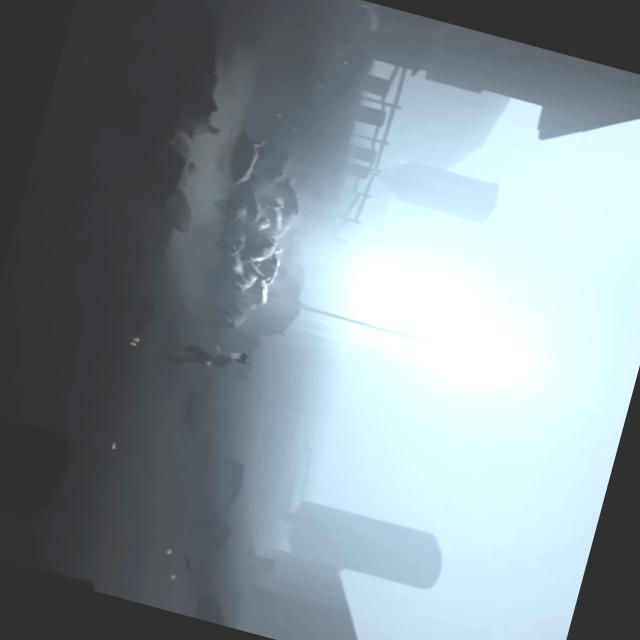boy: (200, 343, 251, 378)
